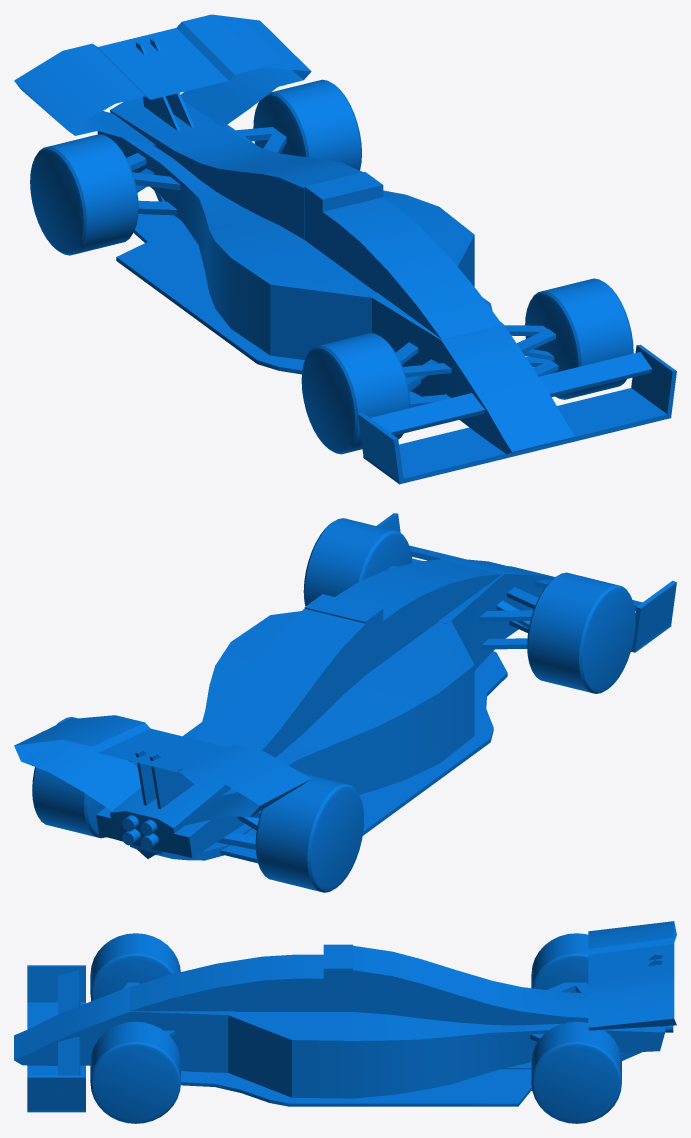
File: LightCarBlockOut.fbx
The picture shows the model from 3 angles, top to bottom: view 1: azimuth 30°, elevation 25°; view 2: azimuth 150°, elevation 25°; view 3: azimuth 270°, elevation 25°; orthographic projection. The views are drawn at different scales.
Visible parts, largest first — view 1: Light Car Body, Wheel Rear Right, Wheel Front Right, Wheel Ront Left, Wheel Rear Left; view 2: Light Car Body, Wheel Front Right, Wheel Rear Right, Wheel Ront Left, Wheel Rear Left; view 3: Light Car Body, Wheel Ront Left, Wheel Rear Left, Wheel Front Right, Wheel Rear Right.
Part boxes in pixels (x1,y1,x2,y2): Light Car Body: (14,14,676,484); Wheel Rear Right: (30,134,138,255); Wheel Front Right: (301,333,410,454); Wheel Ront Left: (525,278,633,399); Wheel Rear Left: (253,79,361,170); Light Car Body: (14,513,676,863); Wheel Front Right: (527,572,635,693); Wheel Rear Right: (255,773,364,892); Wheel Ront Left: (303,518,412,606); Wheel Rear Left: (32,717,133,838); Light Car Body: (14,921,676,1112); Wheel Ront Left: (90,1021,180,1123); Wheel Rear Left: (531,1021,621,1123); Wheel Front Right: (90,933,180,1001); Wheel Rear Right: (531,933,588,992).
Size of the model in its own units: 236 by 112 by 588.
